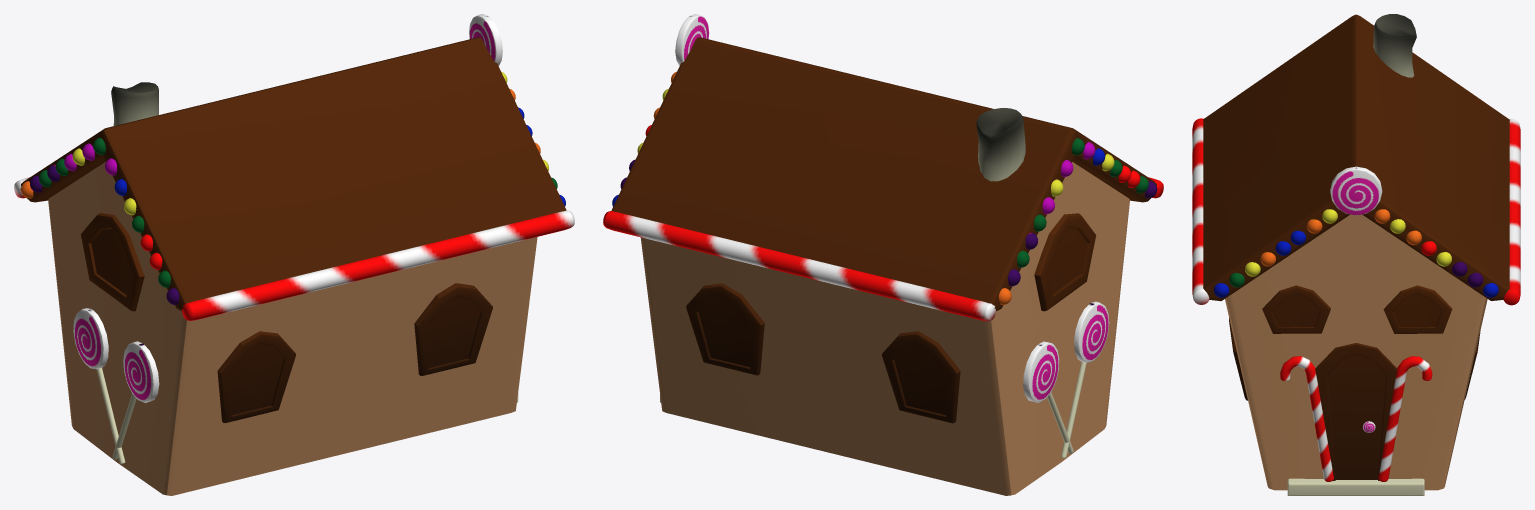
Rendered from casetta.fbx.
The picture shows the model from 3 angles, left to right: view 1: azimuth 30°, elevation 25°; view 2: azimuth 150°, elevation 25°; view 3: azimuth 270°, elevation 25°; orthographic projection. The views are drawn at different scales.
Visible parts, largest first — view 1: casetta1; view 2: casetta1; view 3: casetta1.
Part boxes in pixels (box(x1,y1,x2,y2)): casetta1: box(14, 14, 574, 495); casetta1: box(603, 14, 1163, 495); casetta1: box(1192, 14, 1520, 495).
Size of the model in its own units: 3.1 by 2.67 by 2.39.
